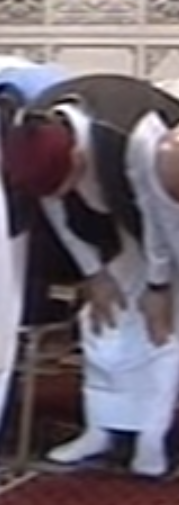ruku: (6, 48, 171, 505)
